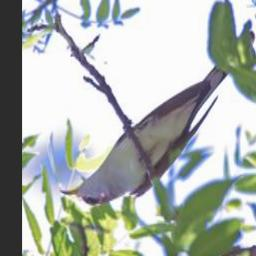Cuckoo: (60, 31, 256, 208)
